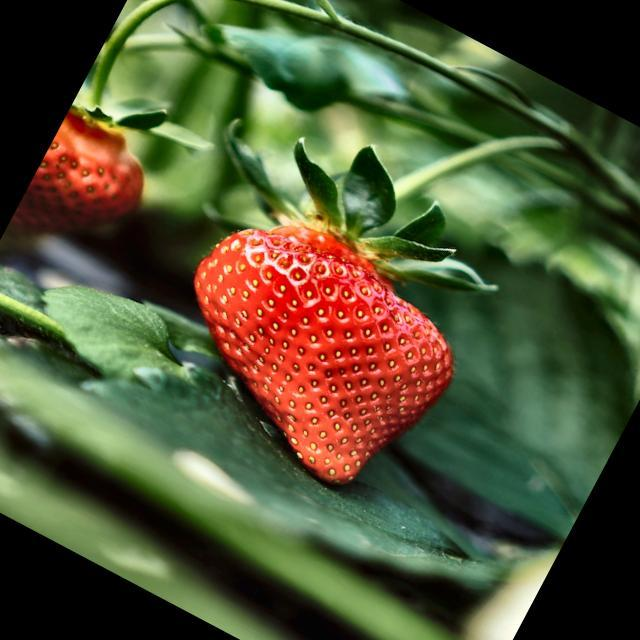strawberry: (195, 225, 452, 484), (12, 108, 144, 231)
